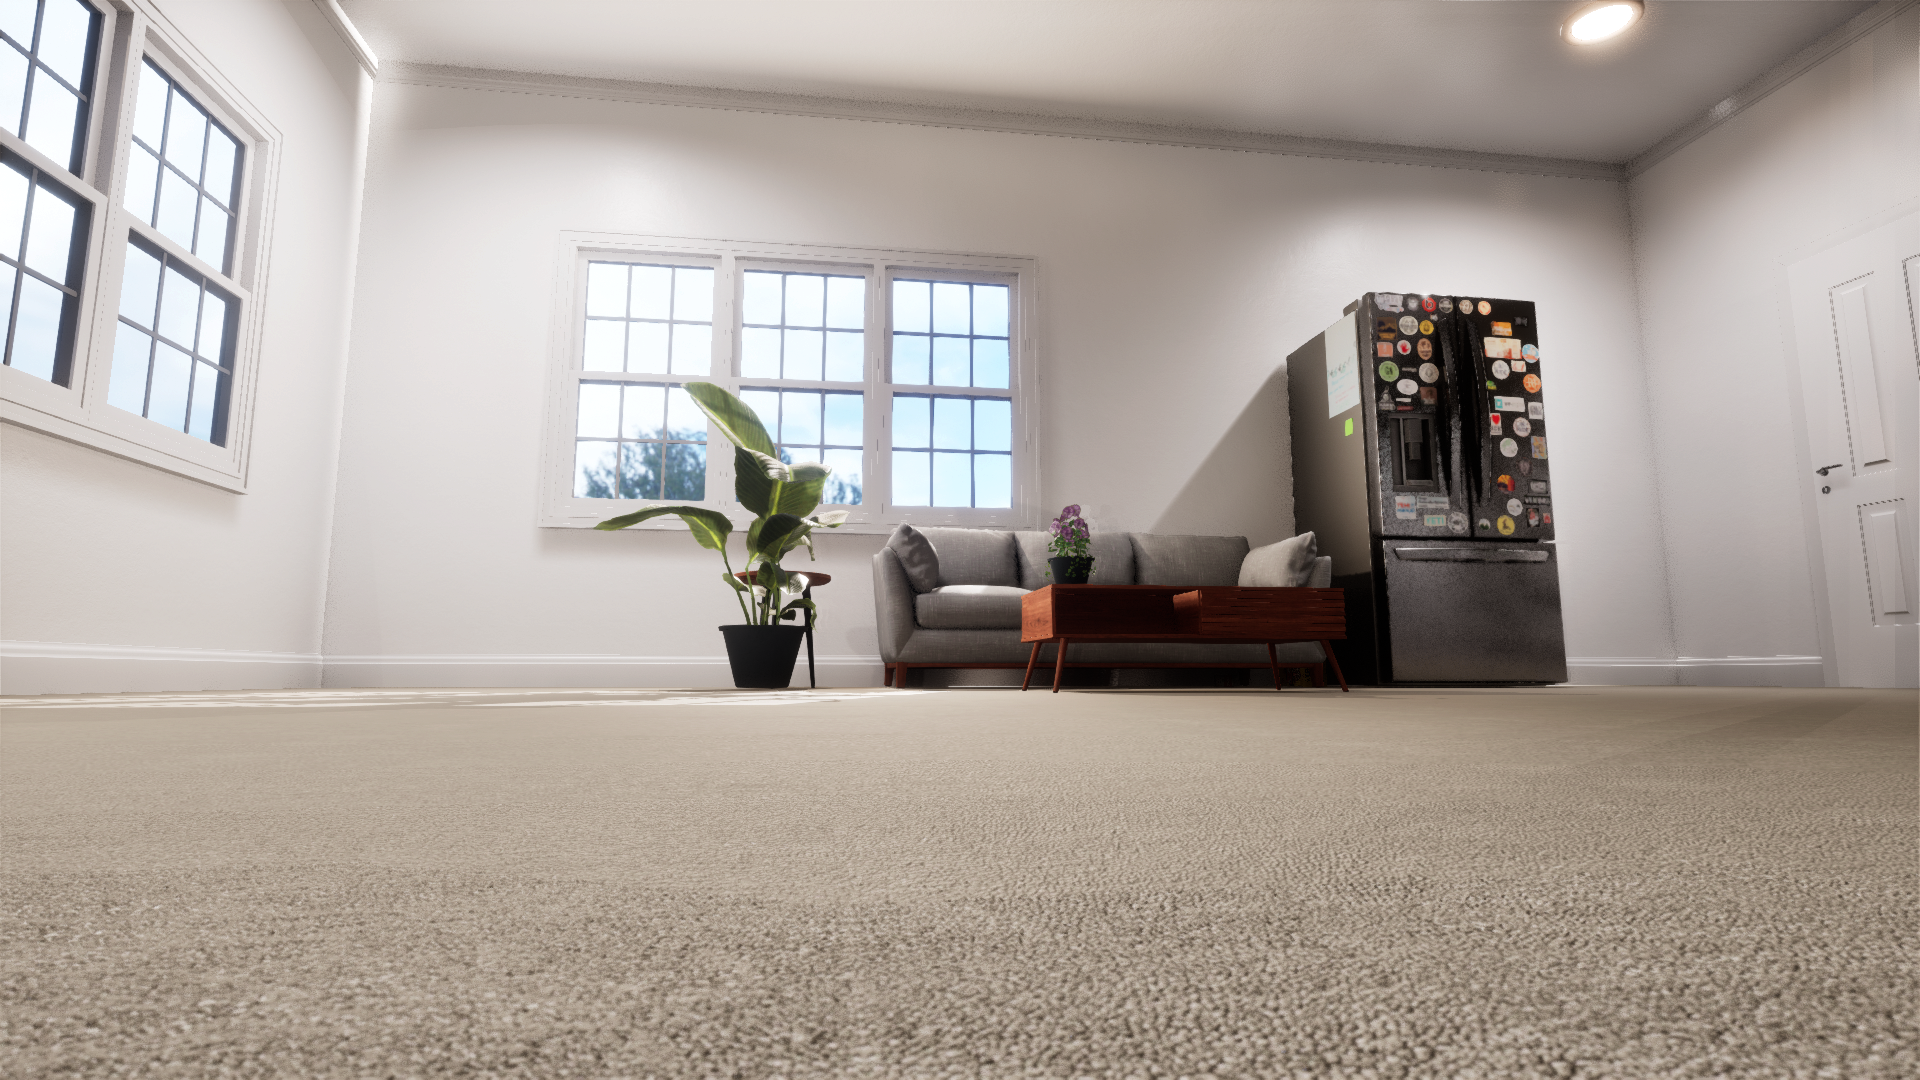cheerios: (1278, 660, 1327, 687)
soup: (1214, 675, 1233, 687)
